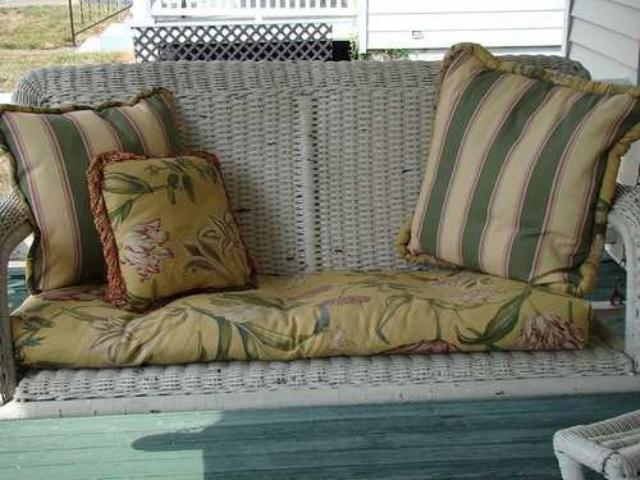pillow: (396, 41, 638, 290), (85, 147, 257, 313)
